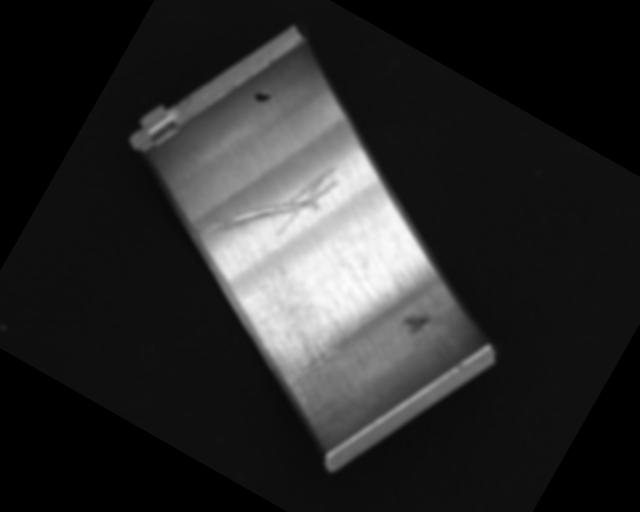blot: (251, 85, 273, 107)
bruise: (399, 306, 433, 340)
nick: (194, 121, 348, 284)
scratch: (225, 283, 364, 418)
